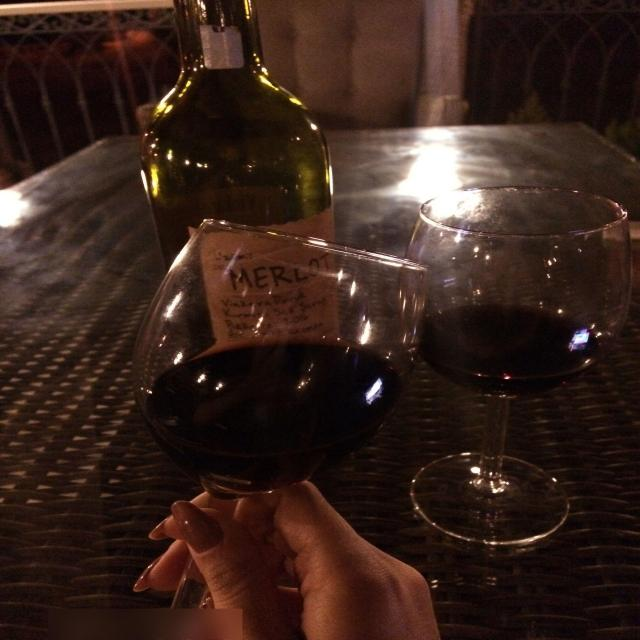bottle-glass: (140, 0, 338, 225)
glass-wine: (108, 209, 431, 592), (398, 185, 634, 549)
